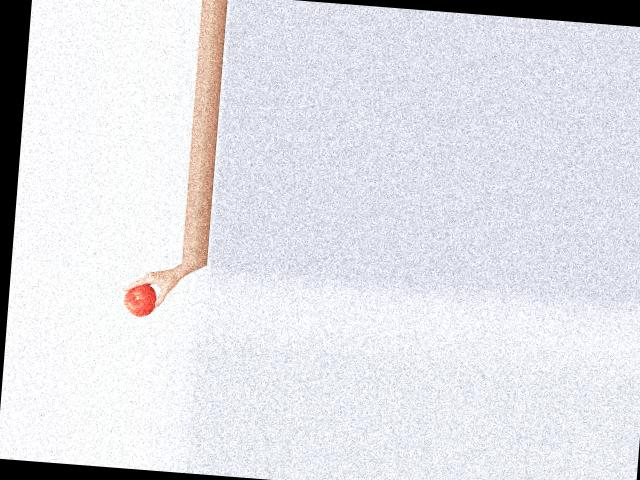tomato: (122, 283, 156, 317)
